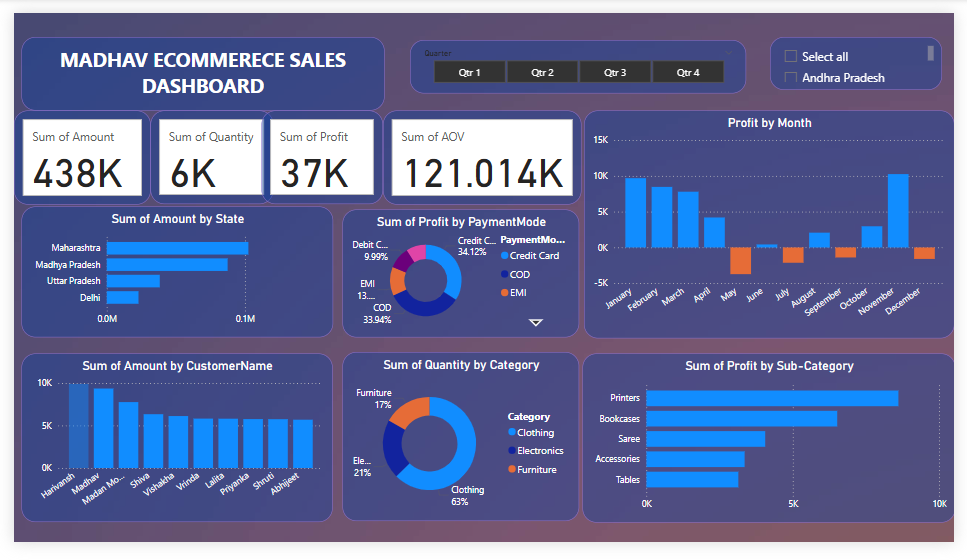

Layout of this report page (visuals, bound fields, positions):
{"tool":"powerbi","page":{"name":"Page 1","canvas":[1280,720],"ordinal":0},"visuals":[{"type":"textbox","box":[10,32,494,100],"z":0},{"type":"columnChart","title":"Profit by Month","fields":{"Y":["Details.Profit"],"Category":["Orders.Order Date.Variation.Date Hierarchy.Month"]},"box":[776,132,504,310],"z":1000},{"type":"barChart","fields":{"Category":["Details.Sub-Category"],"Y":["Details.Profit"]},"box":[772.5,462.5,507.5,230],"z":2000},{"type":"donutChart","fields":{"Category":["Details.Category"],"Y":["Details.Quantity"]},"box":[446,462,322,230],"z":3000},{"type":"donutChart","fields":{"Category":["Details.PaymentMode"],"Y":["Details.Profit"]},"box":[446,268,322,174],"z":4000},{"type":"cardVisual","fields":{"Data":["Details.Amount"]},"box":[0,132,186,128],"z":5000},{"type":"cardVisual","fields":{"Data":["Details.Quantity"]},"box":[185,132.5,167.5,127.5],"z":6000},{"type":"cardVisual","fields":{"Data":["Details.Profit"]},"box":[337.5,132.5,165,127.5],"z":7000},{"type":"cardVisual","fields":{"Data":["Details.AOV"]},"box":[502,132,270,128],"z":8000},{"type":"barChart","fields":{"Y":["Details.Amount"],"Category":["Orders.State"]},"box":[10,264,424,178],"z":9000},{"type":"columnChart","fields":{"Category":["Orders.CustomerName"],"Y":["Details.Amount"]},"box":[10,464,423,229],"z":10000},{"type":"slicer","fields":{"Values":["Orders.State"]},"box":[1028,32,236,72],"z":10002},{"type":"slicer","fields":{"Values":["Orders.Order Date.Variation.Date Hierarchy.Quarter"]},"box":[550,32,458,72],"z":10003}]}

Visuals, with their boxes in screenshot pixels (x1, y1, x2, y2), scaled from the page's 1280x720 canvas onto the 967x560 screenshot:
textbox: detection(8, 25, 381, 103)
"Profit by Month" columnChart: detection(586, 103, 966, 344)
barChart - Details.Sub-Category x Details.Profit: detection(584, 360, 966, 539)
donutChart - Details.Category x Details.Quantity: detection(337, 359, 580, 538)
donutChart - Details.PaymentMode x Details.Profit: detection(337, 208, 580, 344)
cardVisual - Details.Amount: detection(0, 103, 141, 202)
cardVisual - Details.Quantity: detection(140, 103, 266, 202)
cardVisual - Details.Profit: detection(255, 103, 380, 202)
cardVisual - Details.AOV: detection(379, 103, 583, 202)
barChart - Details.Amount x Orders.State: detection(8, 205, 328, 344)
columnChart - Orders.CustomerName x Details.Amount: detection(8, 361, 327, 539)
slicer - Orders.State: detection(777, 25, 955, 81)
slicer - Orders.Order Date.Variation.Date Hierarchy.Quarter: detection(416, 25, 762, 81)
